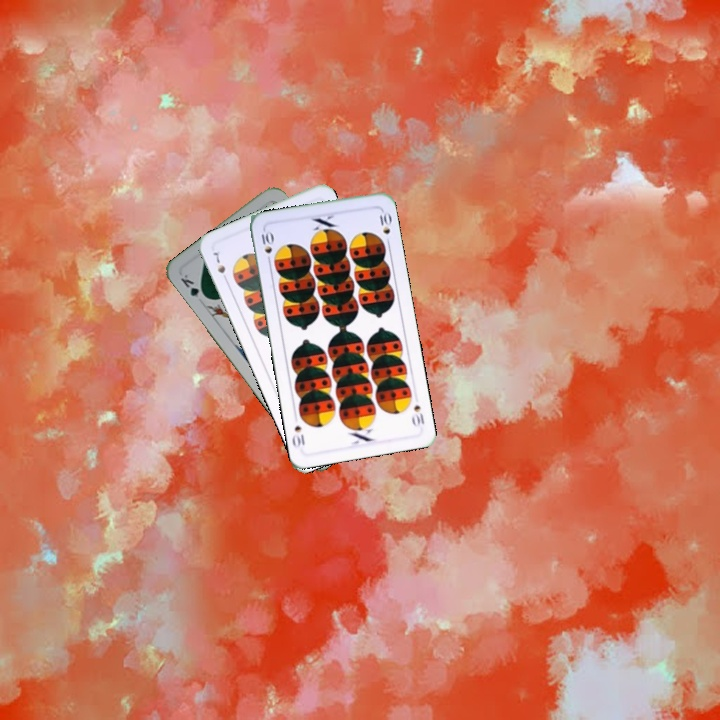GK: (176, 270, 210, 302)
S10: (257, 226, 275, 267), (410, 401, 427, 427)
S7: (209, 248, 230, 285)
